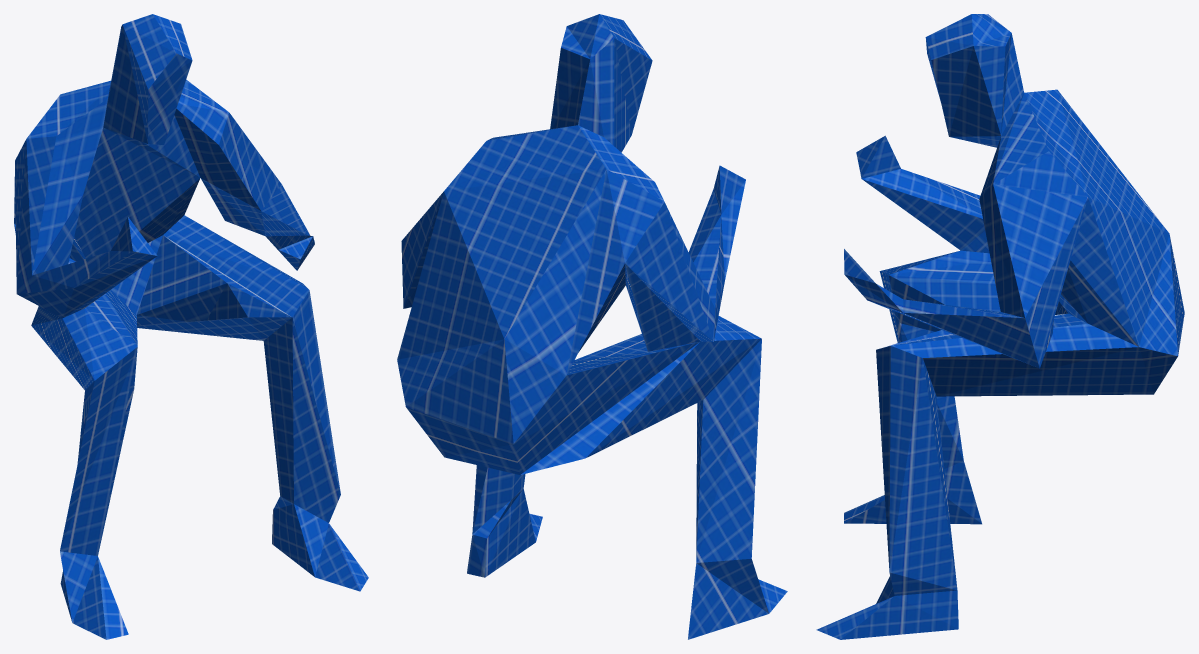
The model's file is Speople.glb.
3 views of the same model, side by side, from view 1: azimuth 30°, elevation 25°; view 2: azimuth 150°, elevation 25°; view 3: azimuth 270°, elevation 25° (orthographic). The views are drawn at different scales.
Parts seen in each view (by area): view 1: Man04; view 2: Man04; view 3: Man04.
Part boxes in pixels (bbox=[...]): Man04: bbox=[14, 14, 368, 639]; Man04: bbox=[397, 14, 787, 639]; Man04: bbox=[816, 14, 1184, 639].
Size of the model in its own units: 6.91 by 13.18 by 7.97.
Materials: 1 (1 with a texture image).
